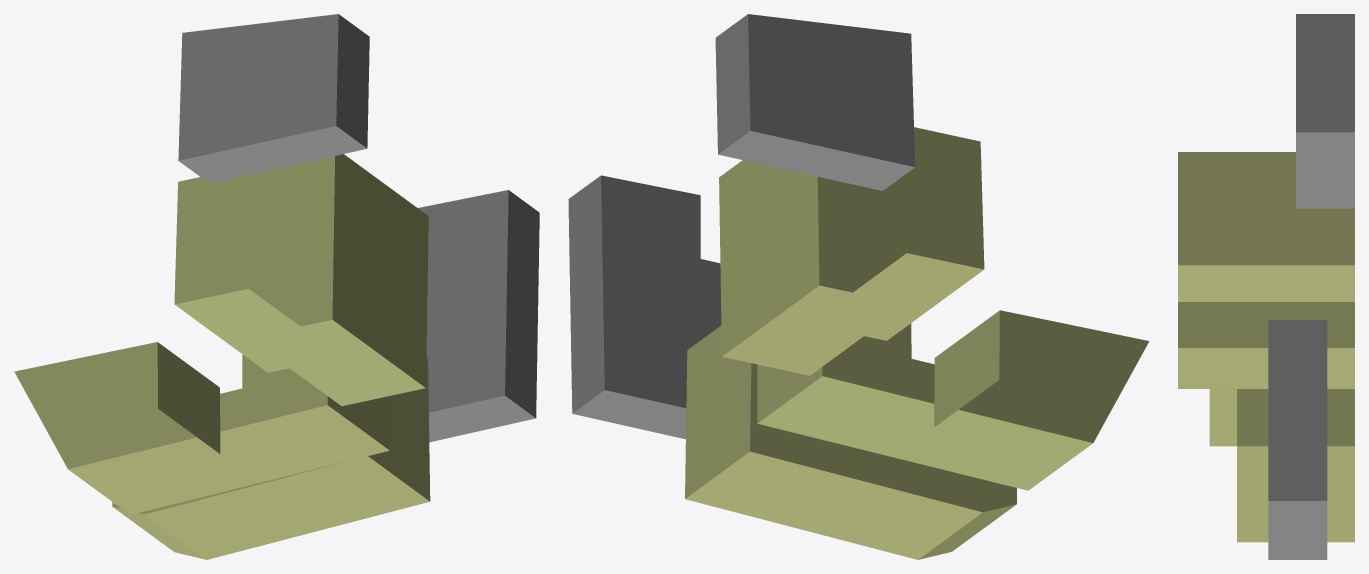
3 views of the same model, side by side, from view 1: azimuth 30°, elevation 25°; view 2: azimuth 150°, elevation 25°; view 3: azimuth 270°, elevation 25° (orthographic). The views are drawn at different scales.
Visible parts, largest first — view 1: 0_1_0_0_1_3_2_2_0_2; view 2: 0_1_0_0_1_3_2_2_0_2; view 3: 0_1_0_0_1_3_2_2_0_2.
Boxes of the visible parts, x1=… form: 0_1_0_0_1_3_2_2_0_2: x1=14, y1=14, x2=539, y2=559; 0_1_0_0_1_3_2_2_0_2: x1=568, y1=14, x2=1149, y2=559; 0_1_0_0_1_3_2_2_0_2: x1=1178, y1=14, x2=1354, y2=559.
Size of the model in its own units: 27.48 by 25.09 by 9.
